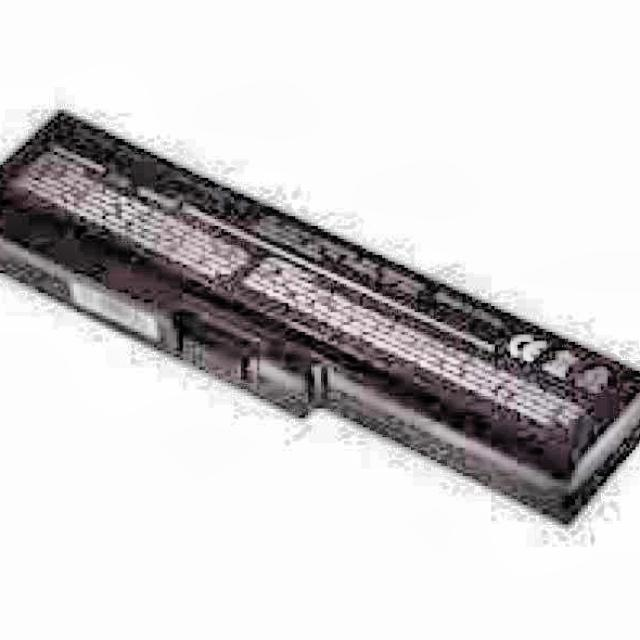battery: (0, 110, 640, 521)
